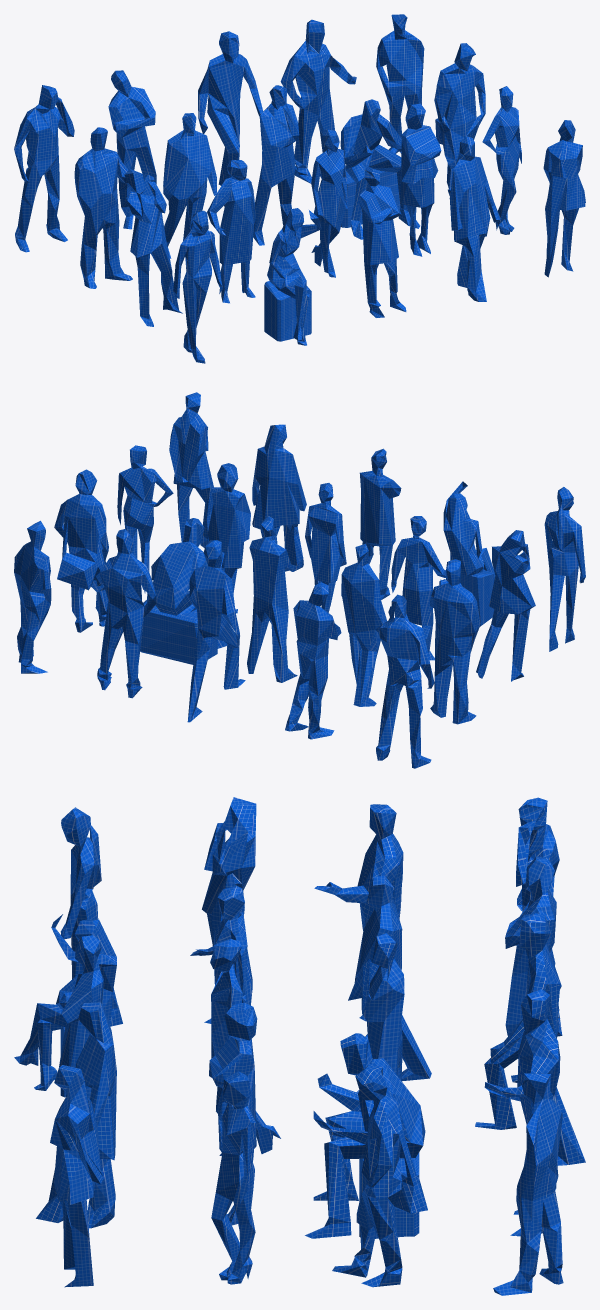
Rendered from people.glb.
3 renders of one model, top to bottom at view 1: azimuth 30°, elevation 25°; view 2: azimuth 150°, elevation 25°; view 3: azimuth 270°, elevation 25°, orthographic. The views are drawn at different scales.
Parts seen in each view (by area): view 1: Man01, Man06, Man09, Woman04, Man08, Man02, Woman06, Man05, Man03, Man04, Woman07, Woman05 (+10 smaller); view 2: Man09, Man01, Man05, Man06, Man08, Man03, Woman04, Man07, Man02, Woman06, Woman05, Woman01 (+10 smaller); view 3: Man05, Man04, Man10, Woman05, Woman10, Woman04, Man08, Man03, Woman06, Woman02, Woman01, Man09 (+9 smaller).
Part boxes in pixels (bbox=[...]): Man01: bbox=[74, 127, 154, 288]; Man06: bbox=[14, 85, 74, 252]; Man09: bbox=[280, 19, 356, 183]; Woman04: bbox=[449, 136, 500, 301]; Man08: bbox=[198, 31, 263, 185]; Man02: bbox=[163, 113, 216, 258]; Woman06: bbox=[124, 169, 182, 326]; Man05: bbox=[434, 43, 485, 195]; Man03: bbox=[253, 85, 299, 245]; Man04: bbox=[340, 99, 420, 239]; Woman07: bbox=[207, 160, 255, 303]; Woman05: bbox=[543, 120, 585, 277]; Man09: bbox=[95, 529, 156, 698]; Man01: bbox=[430, 559, 480, 724]; Man05: bbox=[54, 469, 108, 632]; Man06: bbox=[376, 594, 434, 768]; Man08: bbox=[187, 540, 245, 722]; Man03: bbox=[247, 516, 297, 682]; Woman04: bbox=[252, 424, 306, 571]; Man07: bbox=[285, 582, 341, 739]; Man02: bbox=[341, 543, 386, 706]; Woman06: bbox=[476, 530, 535, 681]; Woman05: bbox=[169, 392, 213, 548]; Woman01: bbox=[544, 487, 585, 651]; Man05: bbox=[332, 1064, 427, 1287]; Man04: bbox=[305, 1033, 425, 1238]; Man10: bbox=[493, 1073, 563, 1295]; Woman05: bbox=[50, 1065, 103, 1287]; Woman10: bbox=[211, 1071, 256, 1284]; Woman04: bbox=[36, 1002, 116, 1228]; Man08: bbox=[475, 913, 585, 1165]; Man03: bbox=[361, 933, 404, 1080]; Woman06: bbox=[202, 797, 256, 1023]; Woman02: bbox=[14, 914, 116, 1090]; Woman01: bbox=[60, 807, 122, 1026]; Man09: bbox=[484, 989, 560, 1236].
Size of the model in its own units: 4.64 by 1.78 by 3.77.
1 material, 1 textured.
